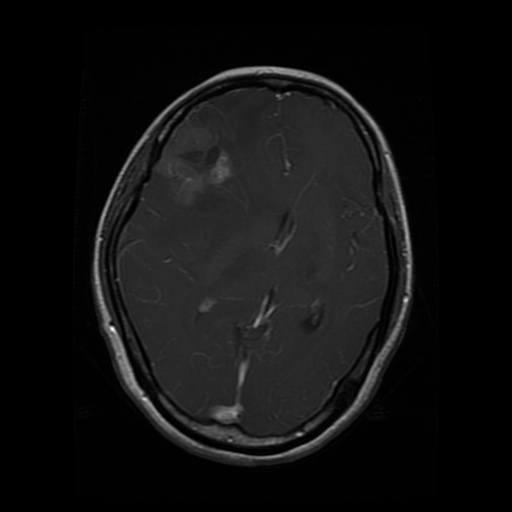glioma: (154, 100, 235, 207)
